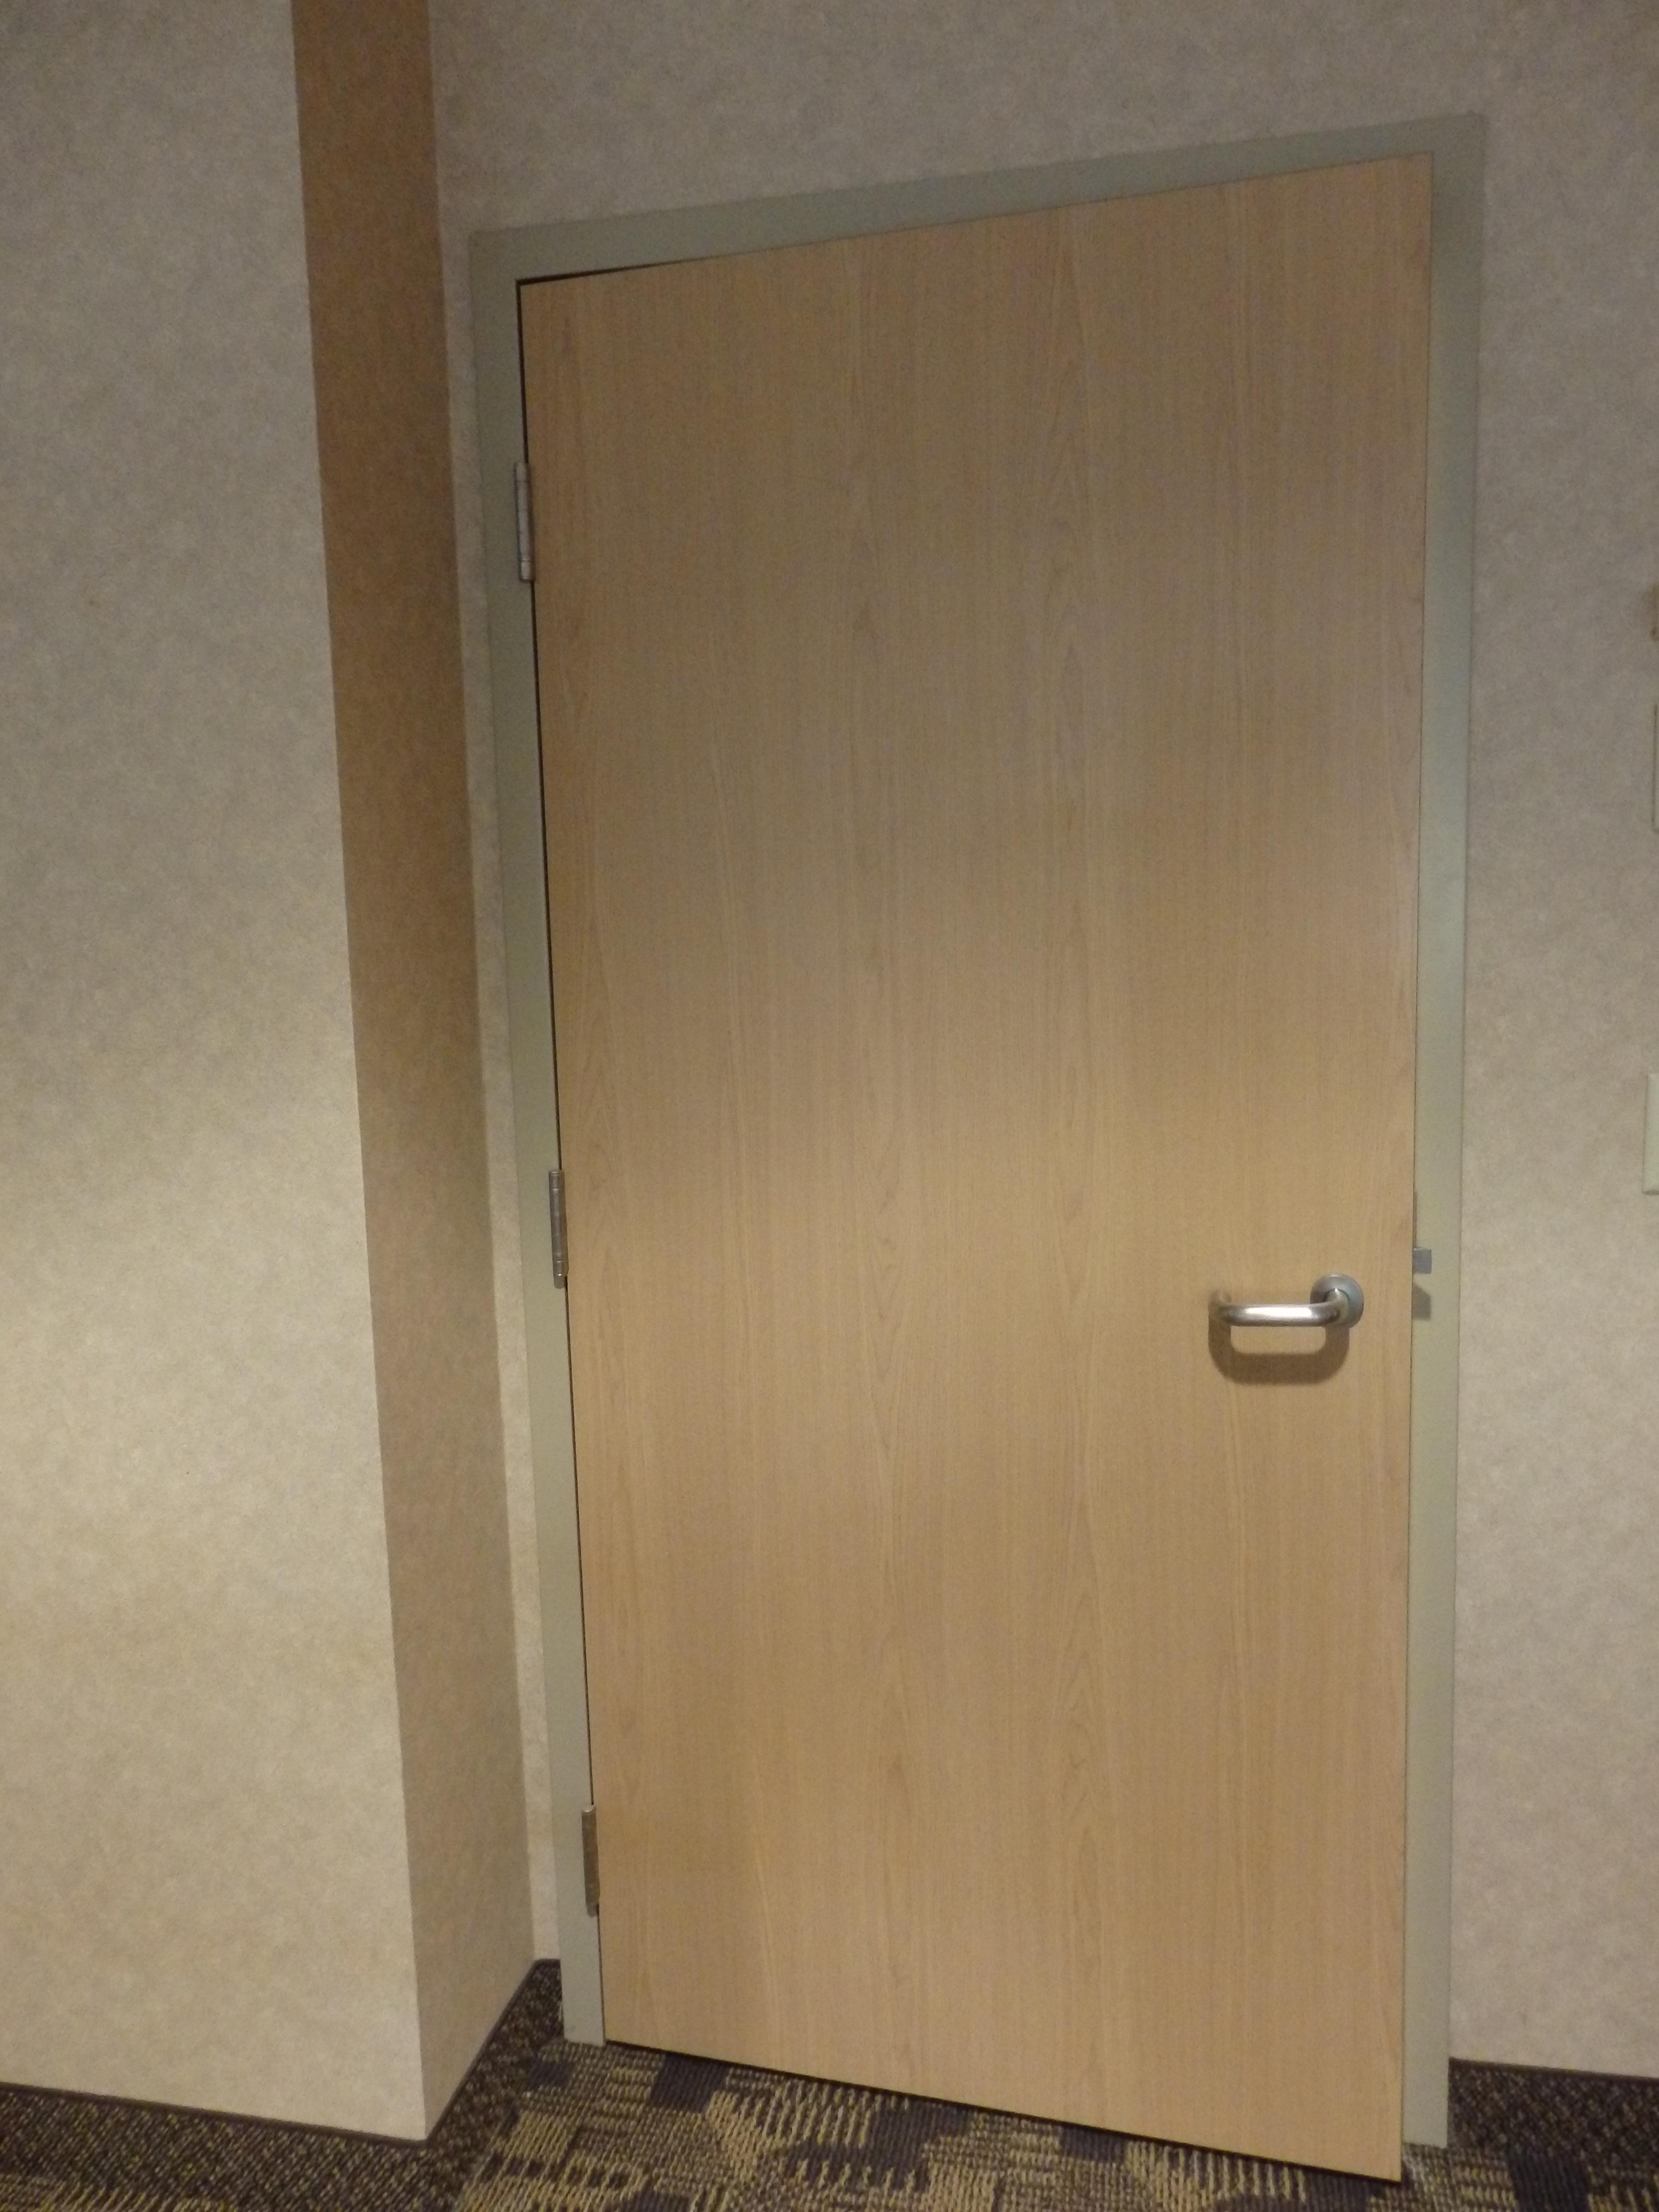door: (471, 115, 1478, 2179)
